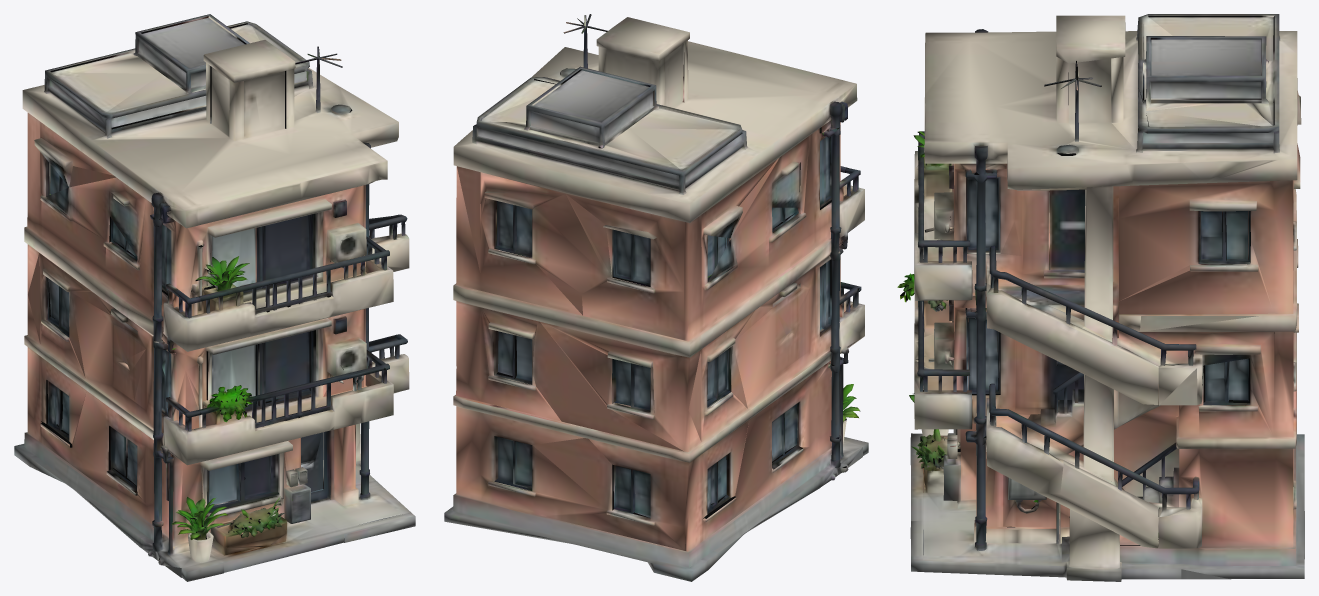
File: building19.glb
The picture shows the model from 3 angles, left to right: view 1: azimuth 30°, elevation 25°; view 2: azimuth 150°, elevation 25°; view 3: azimuth 270°, elevation 25°; orthographic projection. The views are drawn at different scales.
Visible parts, largest first — view 1: lo; view 2: lo; view 3: lo.
Boxes of the visible parts, bbox=[...] form: lo: bbox=[14, 14, 415, 581]; lo: bbox=[444, 14, 868, 581]; lo: bbox=[897, 14, 1304, 581].
Size of the model in its own units: 0.6277 by 0.9785 by 0.7357.
Materials: 1 (1 with a texture image).
